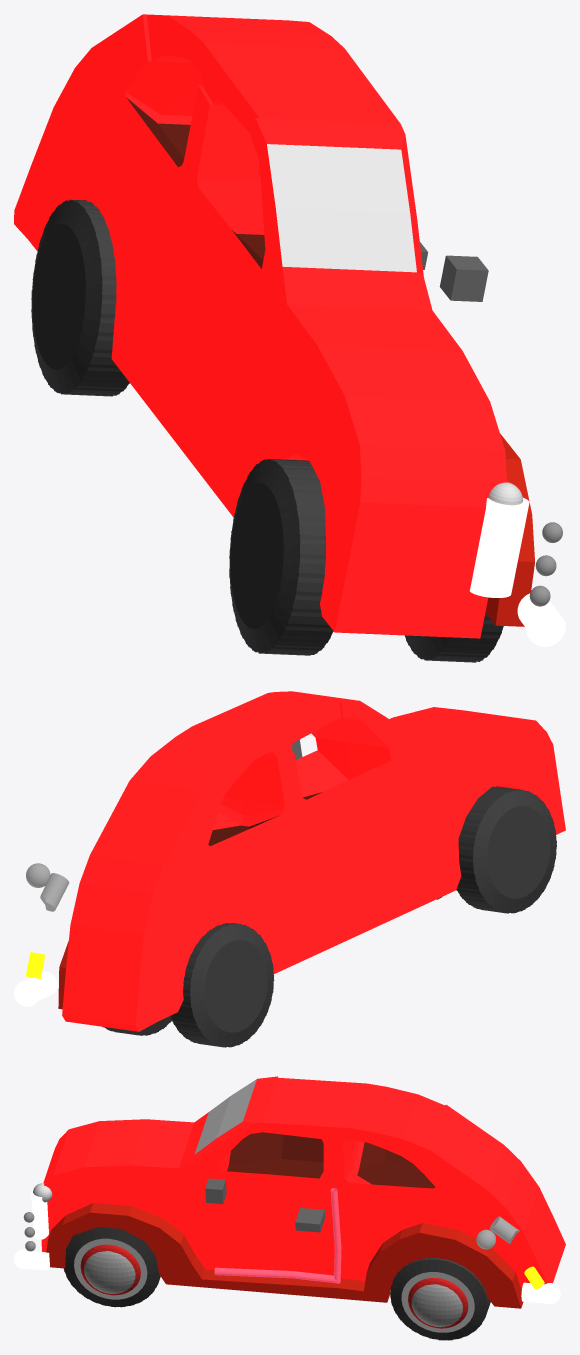
Rendered from RedCar.glb.
3 renders of one model, top to bottom at view 1: azimuth 30°, elevation 25°; view 2: azimuth 150°, elevation 25°; view 3: azimuth 270°, elevation 25°, orthographic. The views are drawn at different scales.
Parts seen in each view (by area): view 1: carBody, carTireFB, carTireBB, Cylinder.197, MergedCube.056, carTireF, Cube.410, Cylinder.196; view 2: carBody, carTireFB, carTireBB, Cylinder.195, Cylinder.199, Sphere.272; view 3: carBody, MergedCube.056, carTireB, carTireF, EdgeTube.134, Cylinder.197, Cylinder.195, EdgeTube.133, Cylinder.196, Cube.411, Cube.410, Cylinder.199.
Part boxes in pixels (x1,y1,x2,y2): carBody: [14, 14, 506, 638]; carTireFB: [229, 459, 333, 655]; carTireBB: [31, 199, 129, 396]; Cylinder.197: [470, 482, 529, 597]; MergedCube.056: [485, 433, 534, 626]; carTireF: [404, 613, 503, 662]; Cube.410: [439, 255, 488, 301]; Cylinder.196: [517, 593, 565, 646]; carBody: [62, 691, 565, 1031]; carTireFB: [456, 786, 556, 913]; carTireBB: [170, 923, 274, 1047]; Cylinder.195: [14, 971, 57, 1006]; Cylinder.199: [40, 873, 69, 911]; Sphere.272: [26, 863, 50, 887]; carBody: [41, 1076, 565, 1289]; MergedCube.056: [46, 1203, 523, 1308]; carTireB: [390, 1258, 490, 1340]; carTireF: [63, 1227, 160, 1307]; EdgeTube.134: [214, 1267, 336, 1282]; Cylinder.197: [31, 1183, 52, 1239]; Cylinder.195: [521, 1282, 560, 1303]; EdgeTube.133: [330, 1188, 341, 1283]; Cylinder.196: [14, 1249, 49, 1270]; Cube.411: [295, 1208, 325, 1232]; Cube.410: [205, 1178, 226, 1204]; Cylinder.199: [490, 1216, 519, 1244].
Bounding box in the file's own units: 8.8 × 8.31 × 18.58.
